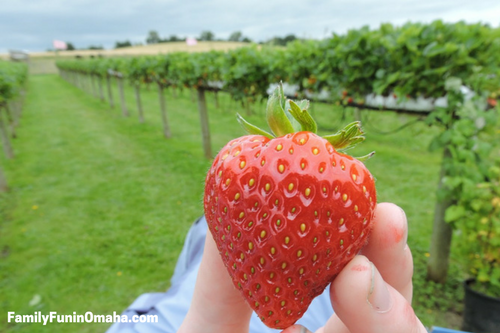ripe: (203, 116, 383, 329)
